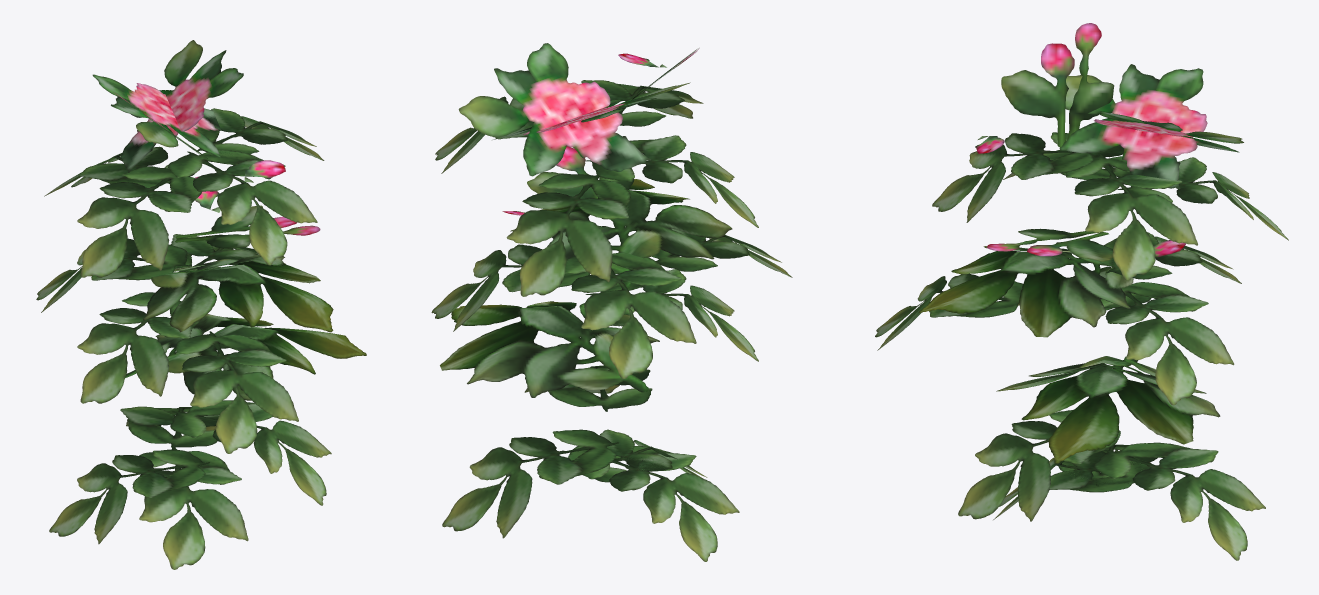
File: wm_灌木山茶花02.fbx
3 renders of one model, left to right at view 1: azimuth 30°, elevation 25°; view 2: azimuth 150°, elevation 25°; view 3: azimuth 270°, elevation 25°, orthographic. The views are drawn at different scales.
Parts seen in each view (by area): view 1: wm_灌木山茶花02; view 2: wm_灌木山茶花02; view 3: wm_灌木山茶花02.
Part boxes in pixels (x1,y1,x2,y2): wm_灌木山茶花02: [36, 40, 366, 569]; wm_灌木山茶花02: [431, 43, 792, 561]; wm_灌木山茶花02: [875, 23, 1288, 560].
Size of the model in its own units: 139 by 184 by 157.
